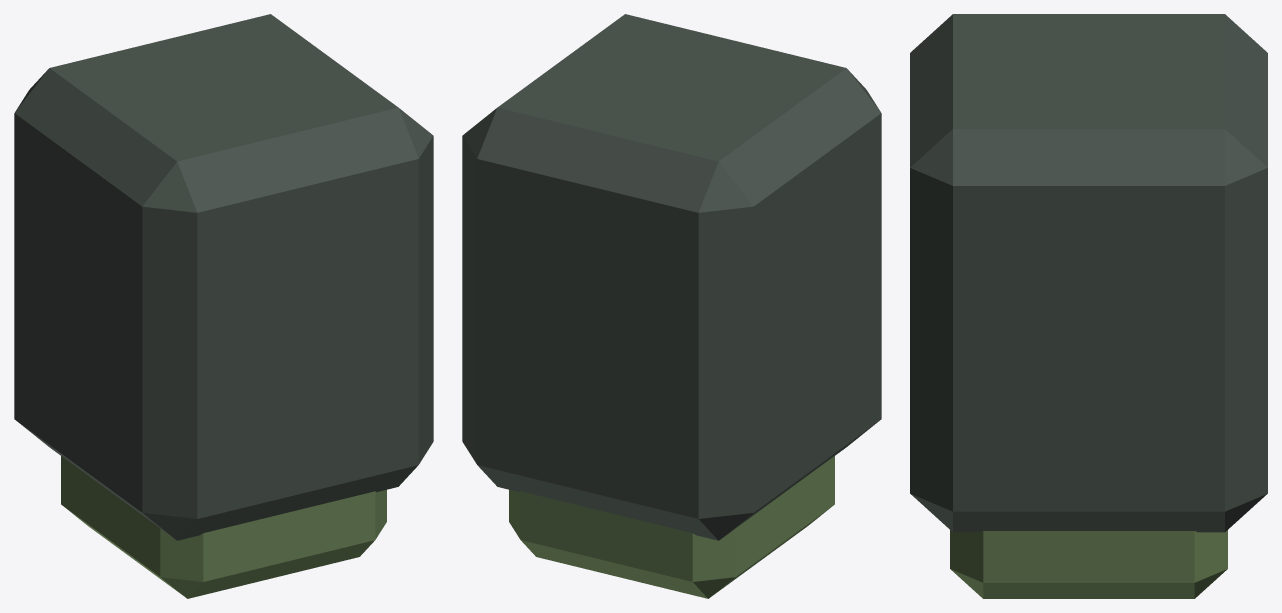
The model's file is ArmRight.glb.
3 renders of one model, left to right at view 1: azimuth 30°, elevation 25°; view 2: azimuth 150°, elevation 25°; view 3: azimuth 270°, elevation 25°, orthographic. The views are drawn at different scales.
Parts seen in each view (by area): view 1: Sculpture; view 2: Sculpture; view 3: Sculpture.
Part boxes in pixels (bbox=[...]): Sculpture: bbox=[14, 14, 433, 598]; Sculpture: bbox=[462, 14, 881, 598]; Sculpture: bbox=[910, 14, 1267, 598].
Size of the model in its own units: 0.225 by 0.335 by 0.225.
